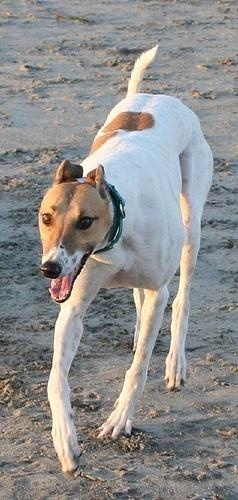dog: (36, 43, 217, 474)
